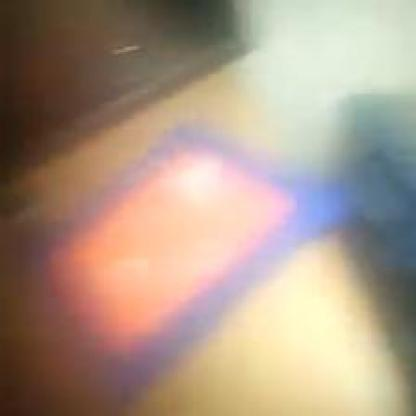other: (49, 145, 285, 325)
